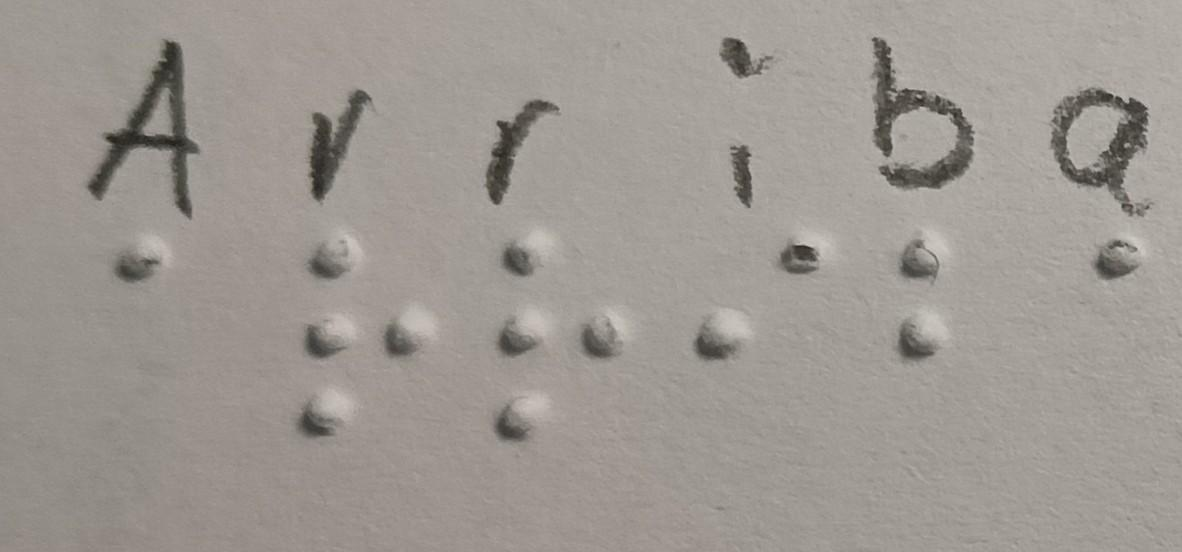a: (77, 219, 230, 313), (1035, 210, 1182, 298)
b: (866, 214, 1003, 381)
i: (659, 211, 846, 396)
r: (273, 217, 444, 453), (477, 207, 637, 457)
